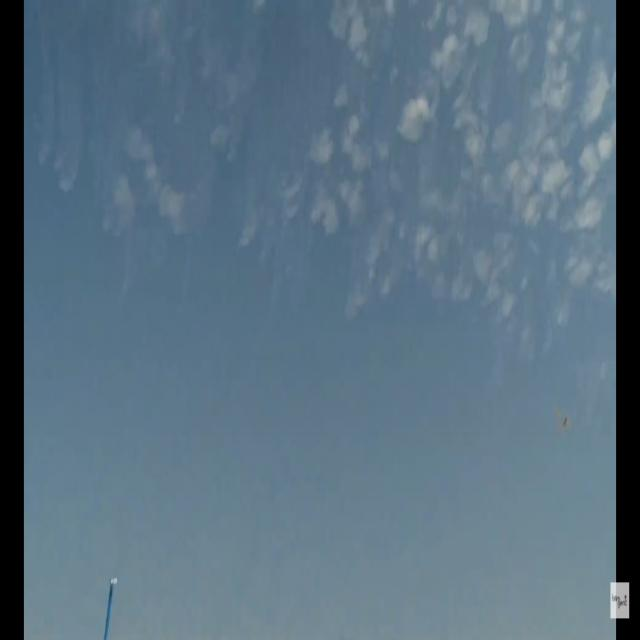iha: (550, 404, 576, 440)
